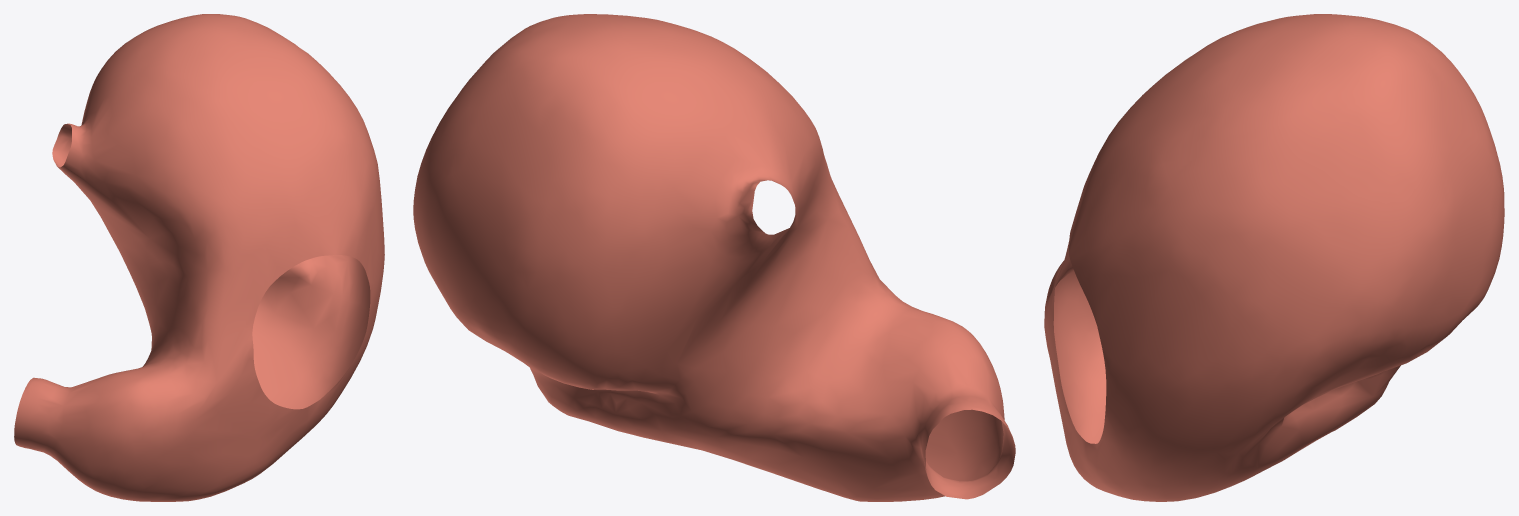
The model's file is visceras-stomach.glb.
3 views of the same model, side by side, from view 1: azimuth 30°, elevation 25°; view 2: azimuth 150°, elevation 25°; view 3: azimuth 270°, elevation 25° (orthographic). The views are drawn at different scales.
Visible parts, largest first — view 1: Stomach; view 2: Stomach; view 3: Stomach.
Boxes of the visible parts, x1,y1,x2,y2 form: Stomach: [14, 14, 384, 501]; Stomach: [413, 14, 1015, 501]; Stomach: [1044, 14, 1504, 501].
Size of the model in its own units: 0.1342 by 0.1255 by 0.1053.
